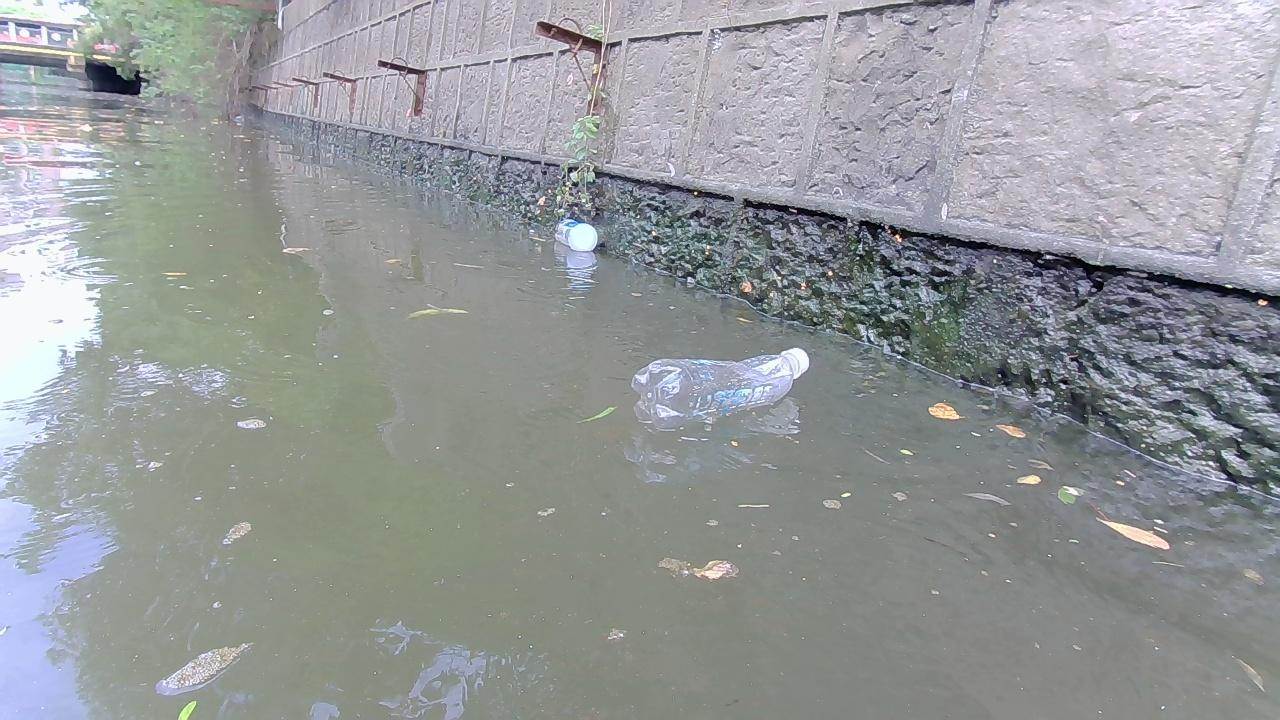bottle: (632, 347, 810, 414), (552, 217, 597, 252)
